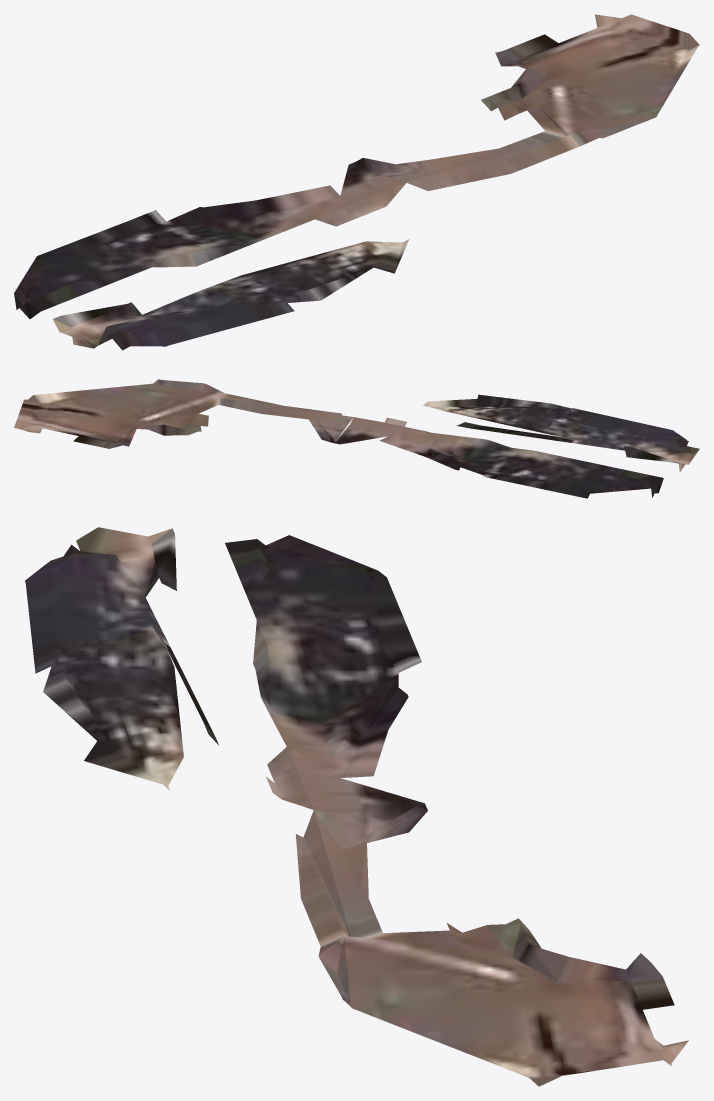
The picture shows the model from 3 angles, top to bottom: view 1: azimuth 30°, elevation 25°; view 2: azimuth 150°, elevation 25°; view 3: azimuth 270°, elevation 25°; orthographic projection. The views are drawn at different scales.
Parts seen in each view (by area): view 1: Mesh_0; view 2: Mesh_0; view 3: Mesh_0.
Boxes of the visible parts, box(x1,y1,x2,y2) form: Mesh_0: box(14, 14, 699, 350); Mesh_0: box(14, 379, 699, 498); Mesh_0: box(25, 527, 688, 1086).
Size of the model in its own units: 28.21 by 0.8695 by 14.42.
Materials: 1 (1 with a texture image).
